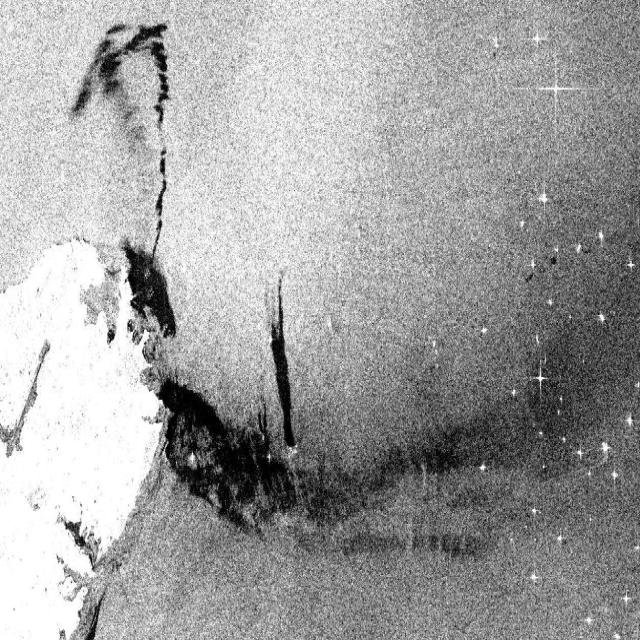look-alike: (302, 440, 490, 575), (162, 379, 296, 554), (63, 14, 184, 132), (123, 149, 199, 335), (262, 268, 306, 441), (85, 583, 109, 637)
ship: (529, 65, 581, 121), (532, 361, 549, 401), (525, 24, 546, 54), (537, 174, 552, 216), (552, 523, 570, 553), (429, 328, 441, 373), (487, 29, 503, 60), (514, 207, 530, 238), (525, 251, 541, 281), (596, 222, 610, 252), (599, 432, 614, 460), (478, 315, 492, 344), (593, 300, 607, 328), (526, 494, 540, 522), (618, 587, 636, 608), (624, 405, 636, 436), (581, 609, 598, 630), (574, 235, 586, 264), (551, 238, 564, 263), (528, 566, 541, 590), (624, 256, 638, 276), (530, 323, 542, 346), (574, 442, 586, 465), (632, 531, 640, 563), (609, 465, 621, 486), (544, 290, 555, 312), (510, 380, 520, 404)
